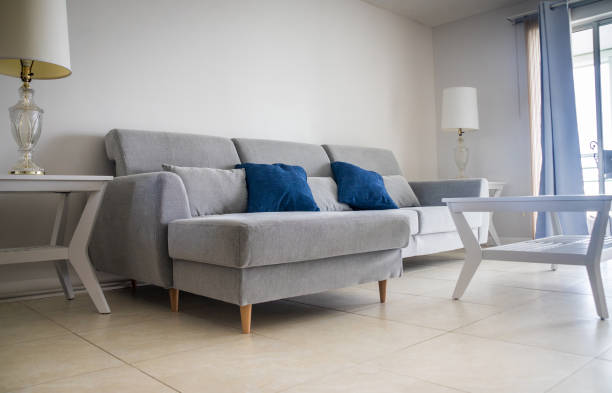side table: (0, 175, 118, 317)
sofa: (90, 126, 494, 334)
table: (442, 191, 611, 326)
table lamp: (0, 0, 74, 177), (436, 82, 482, 179)
